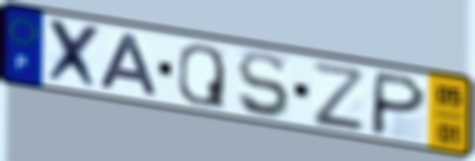A: (97, 31, 161, 100)
P: (367, 69, 430, 139)
Q: (175, 42, 228, 112)
S: (236, 50, 293, 121)
X: (44, 16, 104, 94)
Z: (308, 58, 367, 131)
